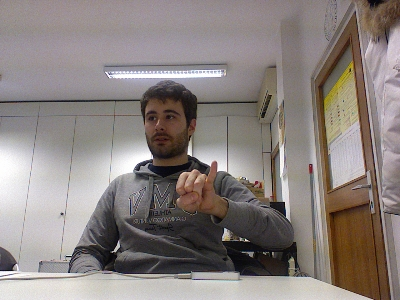小指: (174, 159, 218, 213)
